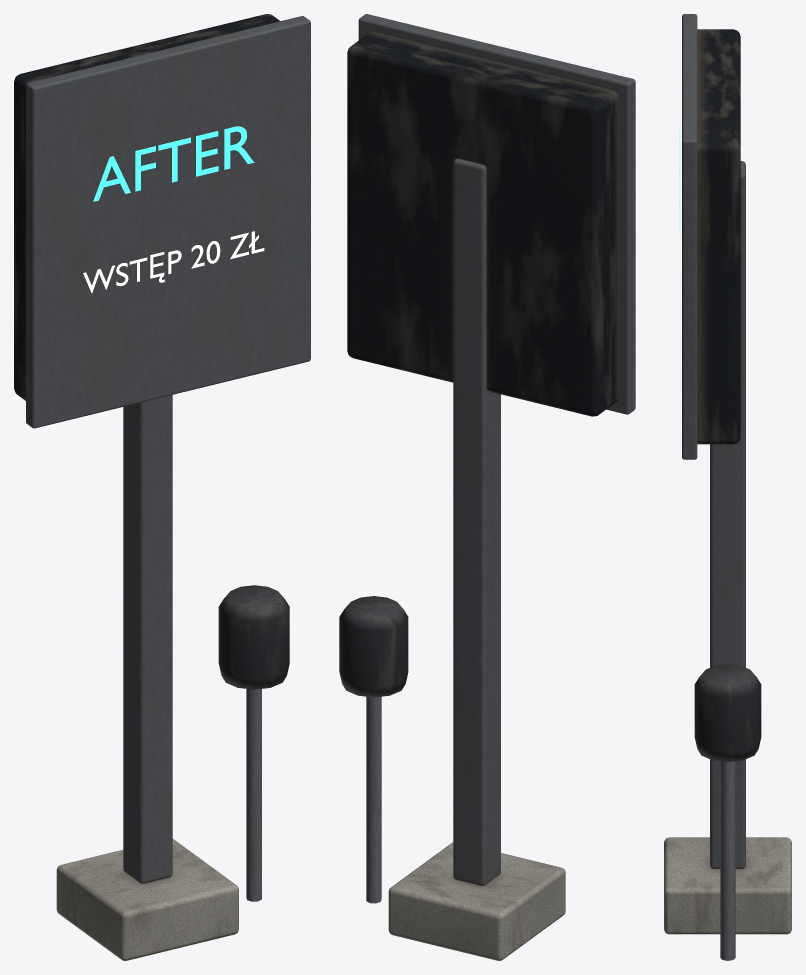
File: klub_neon_b.glb
The picture shows the model from 3 angles, left to right: view 1: azimuth 30°, elevation 25°; view 2: azimuth 150°, elevation 25°; view 3: azimuth 270°, elevation 25°; orthographic projection. The views are drawn at different scales.
Parts seen in each view (by area): view 1: Neon, Swiatlo; view 2: Neon; view 3: Neon.
Boxes of the visible parts, x1,y1,x2,y2 form: Neon: [14, 14, 310, 960]; Swiatlo: [83, 126, 264, 292]; Neon: [339, 14, 635, 960]; Neon: [664, 14, 791, 960].
Size of the model in its own units: 1.18 by 3.59 by 0.5.
Materials: 3 (1 with a texture image).
